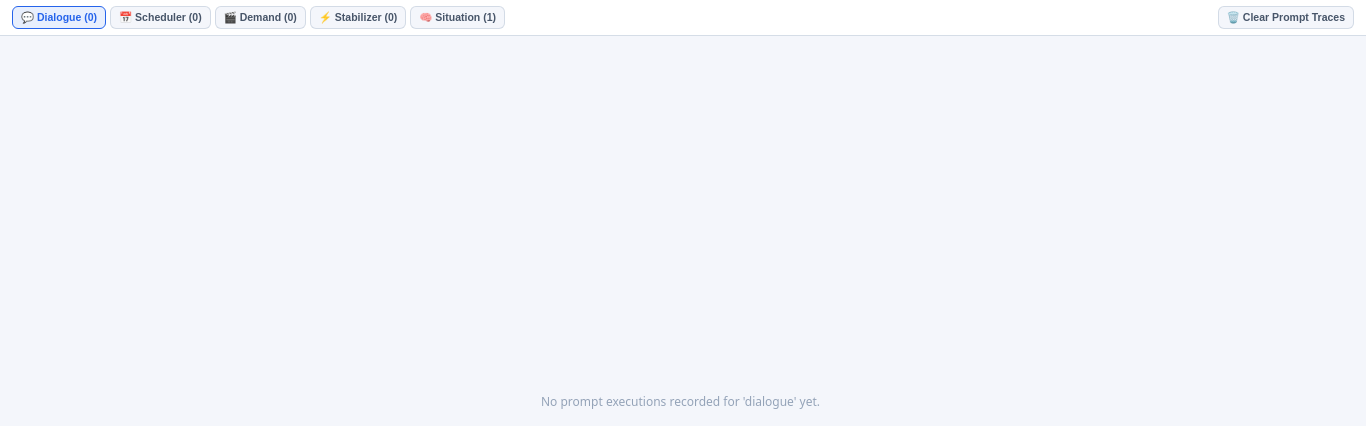
Test: DevToolsPromptsTab — thinking token badge (Phase 5.2) › renders the 🧠 Think badge when reasoning tokens were consumed
Click the button "🧠 Situation (1)": (458, 18) [410,6,505,29]
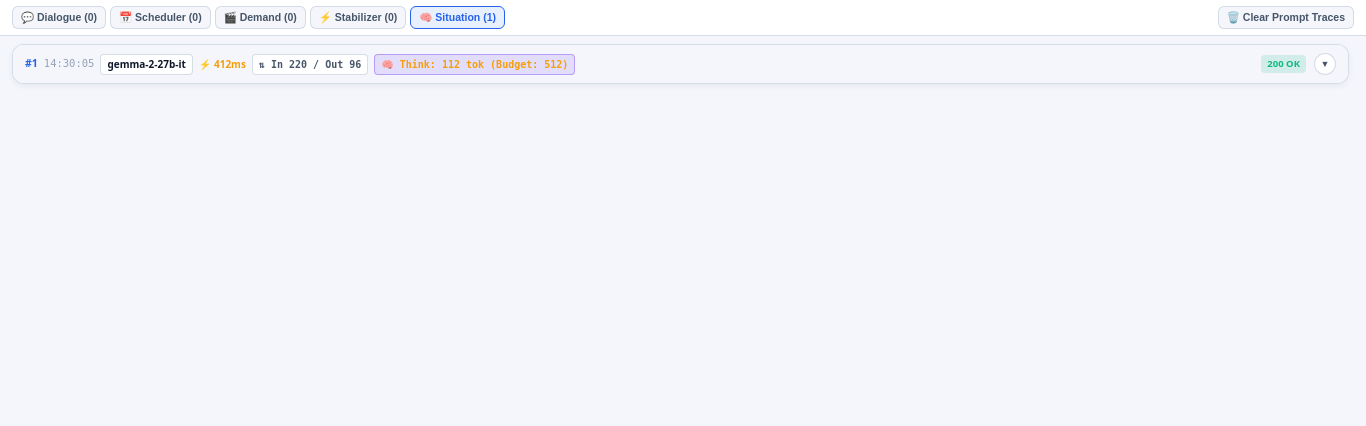
Check: the text "🧠 Think: 112 tok (Budget: 512)" is shown, box [374,54,575,74]
